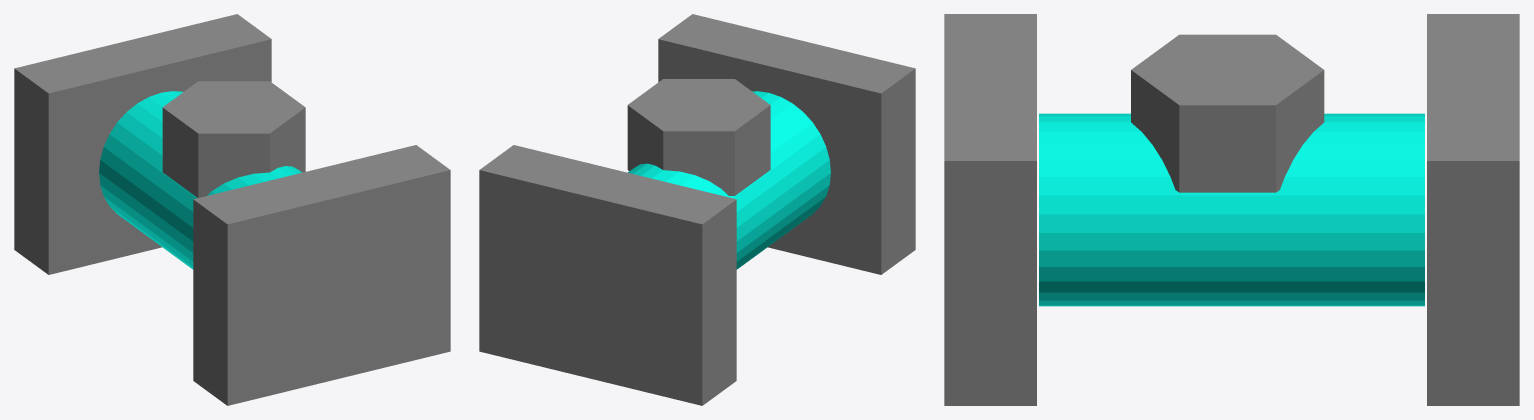
Rendered from CyborgFacility_Generator_002.fbx.
3 renders of one model, left to right at view 1: azimuth 30°, elevation 25°; view 2: azimuth 150°, elevation 25°; view 3: azimuth 270°, elevation 25°, orthographic. The views are drawn at different scales.
Parts seen in each view (by area): view 1: Cylinder.001; view 2: Cylinder.001; view 3: Cylinder.001.
Part boxes in pixels (x1=…): Cylinder.001: x1=14, y1=14, x2=450, y2=405; Cylinder.001: x1=479, y1=14, x2=915, y2=405; Cylinder.001: x1=944, y1=14, x2=1519, y2=405.
Size of the model in its own units: 360 by 596 by 300.
Materials: 1 (1 with a texture image).
